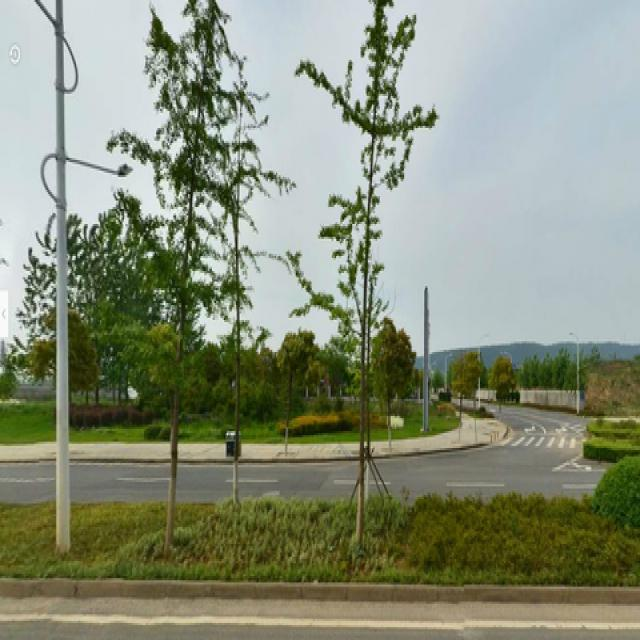gink: (306, 2, 426, 536), (149, 6, 223, 532)
